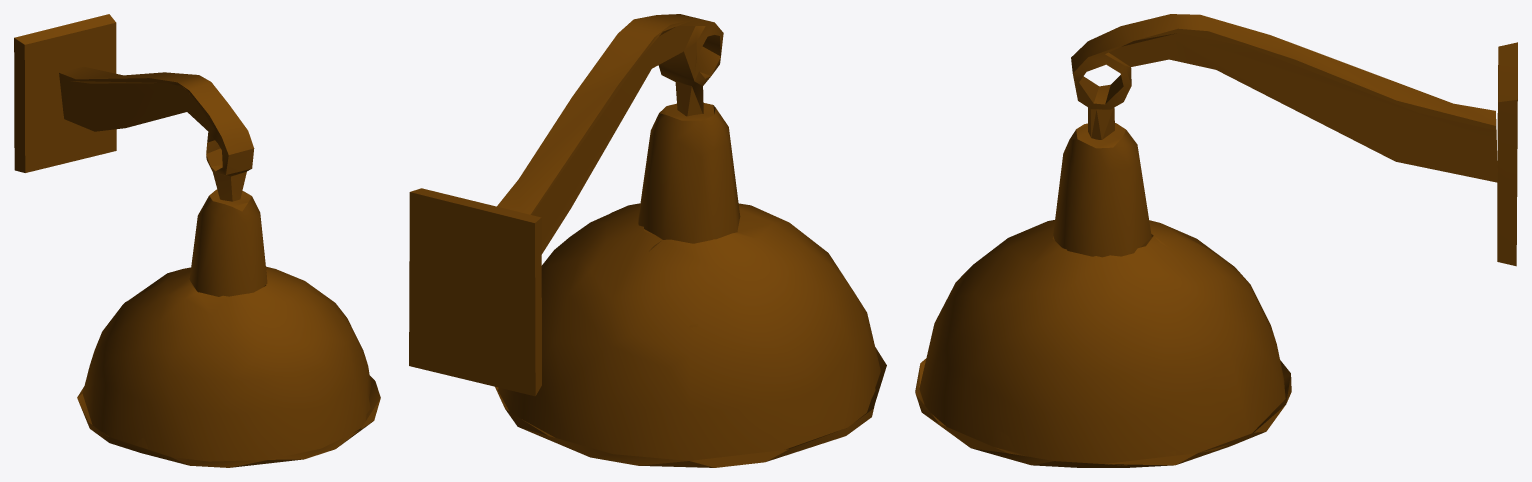
The model's file is Lamp 2.FBX.
The picture shows the model from 3 angles, left to right: view 1: azimuth 30°, elevation 25°; view 2: azimuth 150°, elevation 25°; view 3: azimuth 270°, elevation 25°; orthographic projection. The views are drawn at different scales.
Visible parts, largest first — view 1: wall lamp; view 2: wall lamp; view 3: wall lamp.
Part boxes in pixels (left/top/right/bottom): wall lamp: left=14, top=14, right=380, bottom=467; wall lamp: left=409, top=14, right=886, bottom=467; wall lamp: left=915, top=14, right=1517, bottom=467.
Size of the model in its own units: 34.24 by 37.22 by 54.7.
